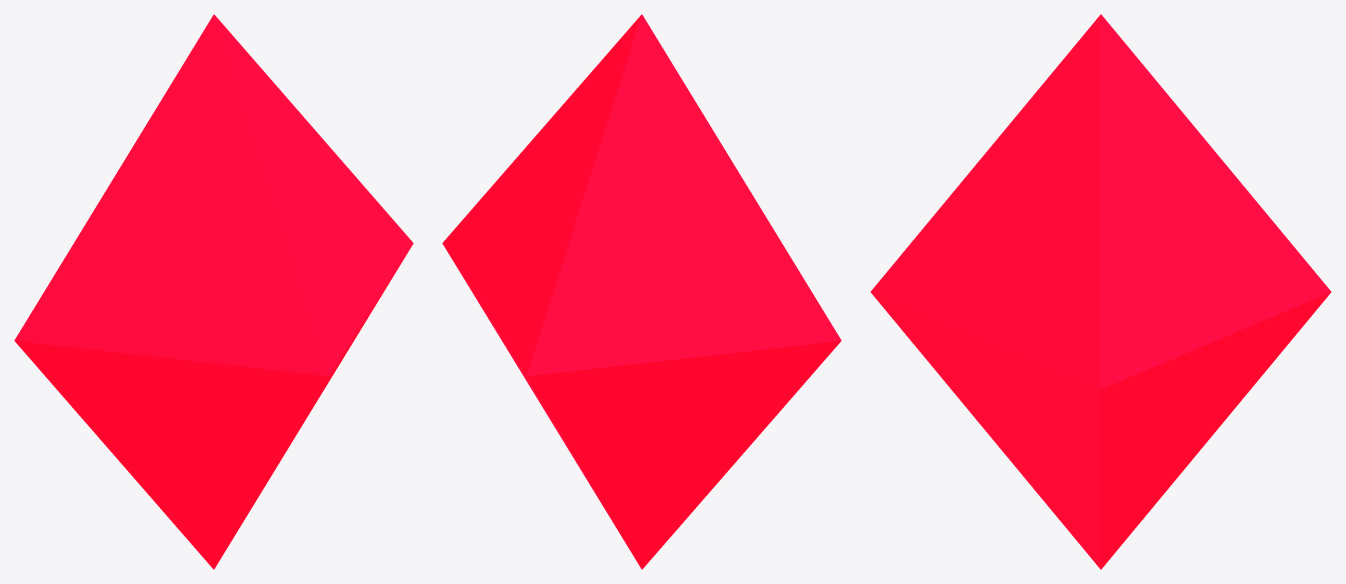
Rendered from gem.fbx.
3 views of the same model, side by side, from view 1: azimuth 30°, elevation 25°; view 2: azimuth 150°, elevation 25°; view 3: azimuth 270°, elevation 25° (orthographic).
Visible parts, largest first — view 1: Plane; view 2: Plane; view 3: Plane.
Boxes of the visible parts, box(x1,y1,x2,y2) form: Plane: box(14, 14, 413, 569); Plane: box(442, 14, 841, 569); Plane: box(870, 14, 1331, 569).
Size of the model in its own units: 2 by 2.66 by 2.
